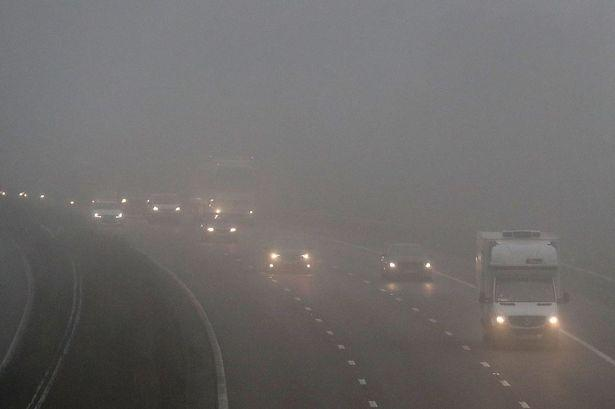bus: (471, 229, 572, 351), (187, 160, 258, 226)
car: (378, 241, 434, 278), (262, 236, 312, 272), (142, 192, 184, 222), (199, 212, 240, 242), (85, 197, 125, 226)
